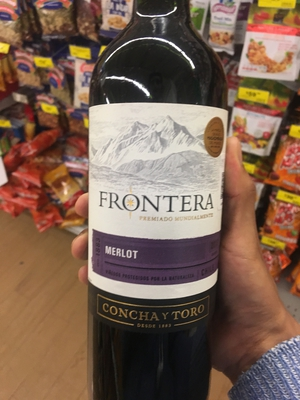frontera merlot: (76, 12, 239, 400)
